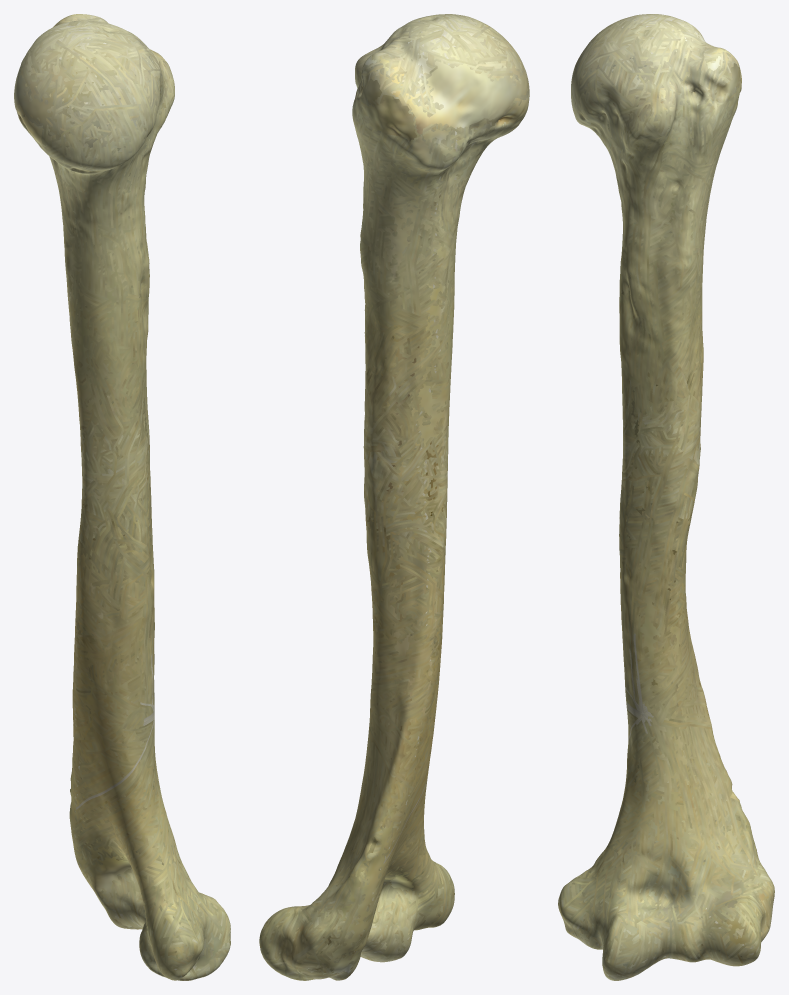
The model's file is left_humerus.glb.
3 views of the same model, side by side, from view 1: azimuth 30°, elevation 25°; view 2: azimuth 150°, elevation 25°; view 3: azimuth 270°, elevation 25° (orthographic). The views are drawn at different scales.
Visible parts, largest first — view 1: Object_3, Object_4, Object_2, Object_5; view 2: Object_2, Object_4, Object_3, Object_5; view 3: Object_3, Object_2, Object_4, Object_5.
Boxes of the visible parts, box(x1,y1,x2,y2) form: Object_3: box(70, 455, 227, 977); Object_4: box(57, 159, 226, 980); Object_2: box(14, 20, 230, 980); Object_5: box(14, 14, 174, 190); Object_2: box(259, 14, 515, 980); Object_4: box(262, 165, 472, 980); Object_3: box(261, 467, 447, 960); Object_5: box(352, 14, 529, 205); Object_3: box(577, 445, 758, 974); Object_2: box(558, 14, 774, 973); Object_4: box(603, 160, 759, 980); Object_5: box(571, 27, 741, 189).
Size of the model in its own units: 62.45 by 285 by 61.08.
1 material, 1 textured.
